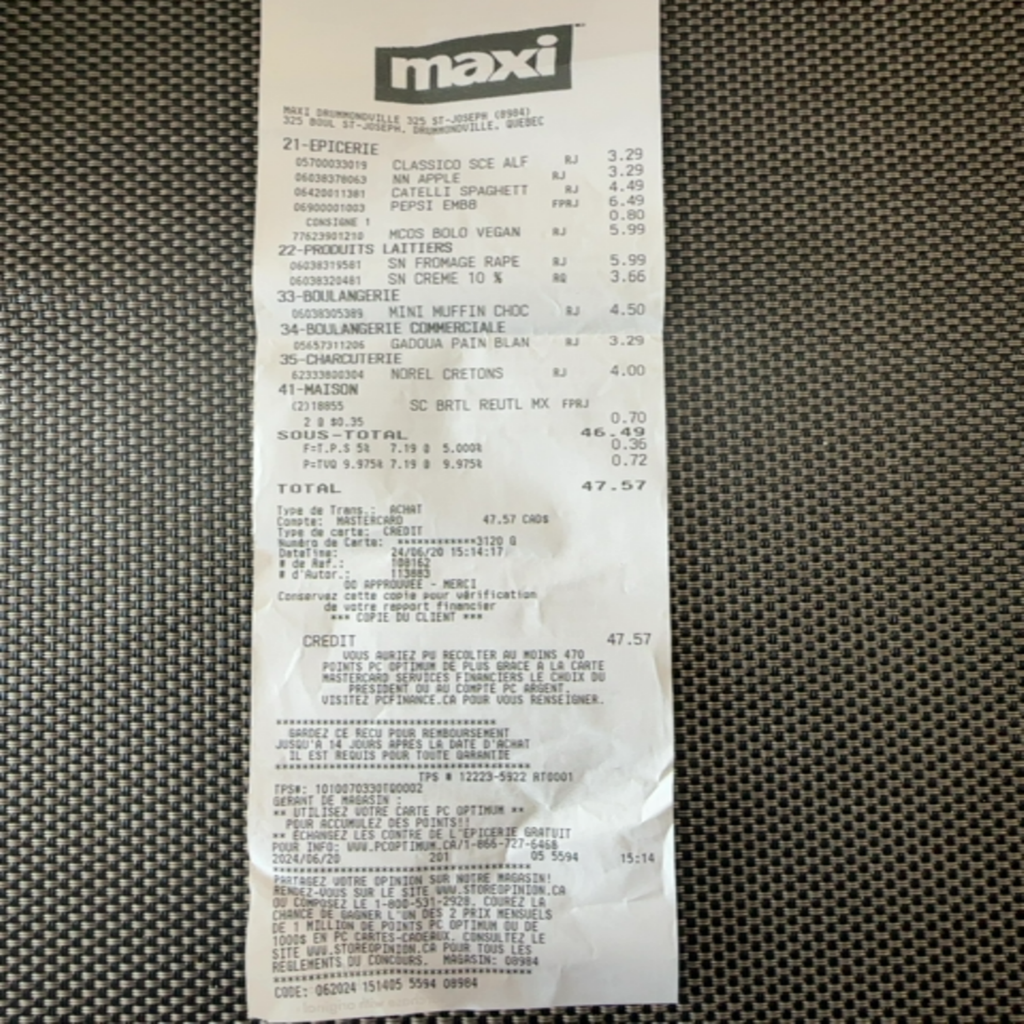recipt: (246, 0, 680, 1024)
